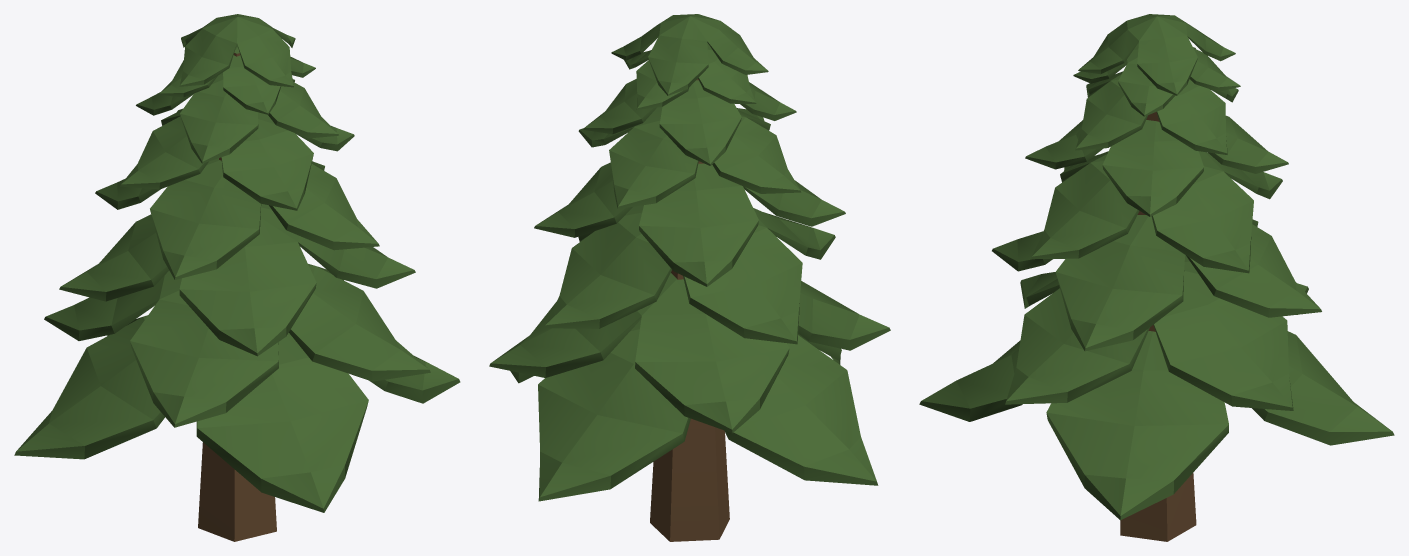
Rendered from wild_pz_pine_01_dk.glb.
3 renders of one model, left to right at view 1: azimuth 30°, elevation 25°; view 2: azimuth 150°, elevation 25°; view 3: azimuth 270°, elevation 25°, orthographic.
Visible parts, largest first — view 1: pg_pine_01_dk; view 2: pg_pine_01_dk; view 3: pg_pine_01_dk.
Boxes of the visible parts, x1,y1,x2,y2 form: pg_pine_01_dk: (14,14,460,541); pg_pine_01_dk: (489,14,890,541); pg_pine_01_dk: (919,14,1394,541).
Size of the model in its own units: 3.05 by 3.6 by 3.05.
